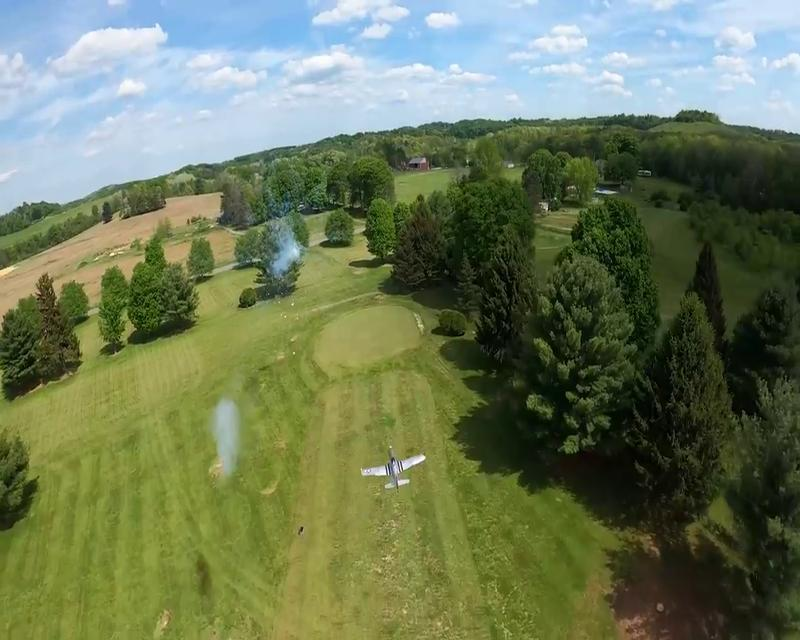UAV: (361, 446, 425, 492)
